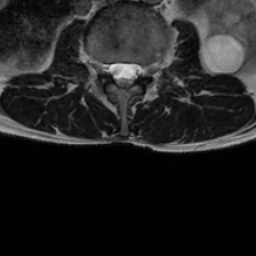CCS_normal: (119, 51, 129, 97)
LFS_normal: (140, 54, 151, 86)
LLS_normal: (129, 51, 140, 90)
RFS_normal: (98, 51, 109, 83)
RLS_normal: (109, 51, 119, 90)
